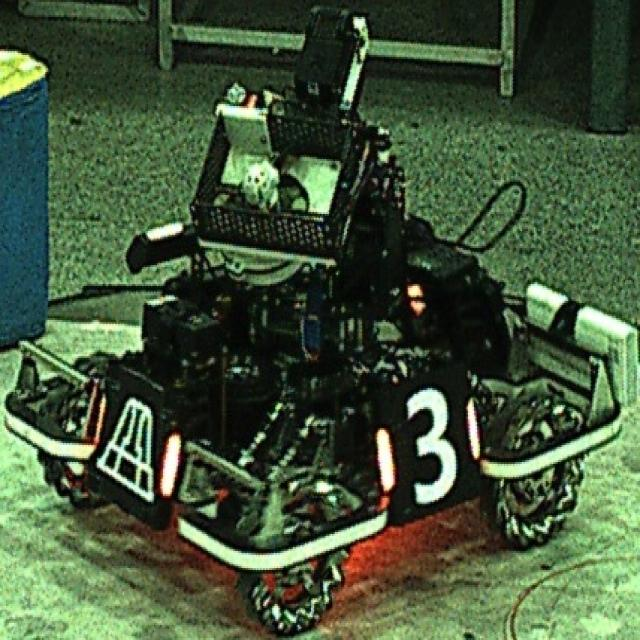R3: (374, 386, 480, 504)
